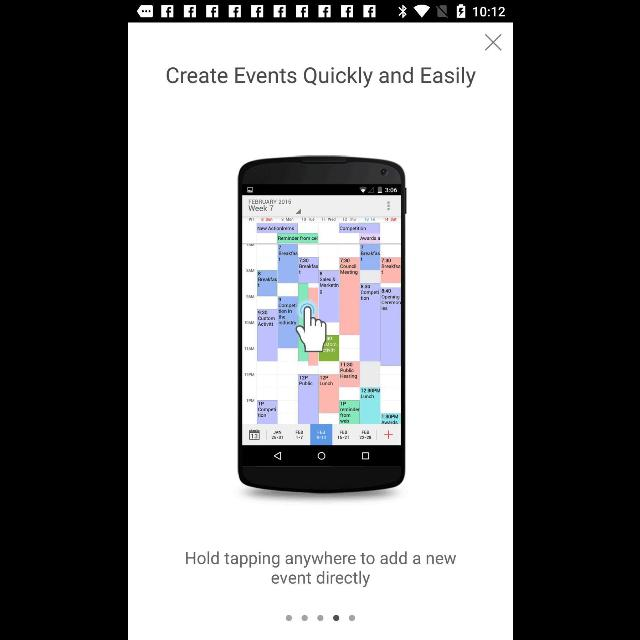icon: (484, 34, 501, 51)
image: (237, 155, 406, 493)
pageindicator: (285, 614, 355, 622)
text: (184, 550, 456, 588), (166, 66, 476, 88)
uppertaskbar: (128, 1, 512, 23)
